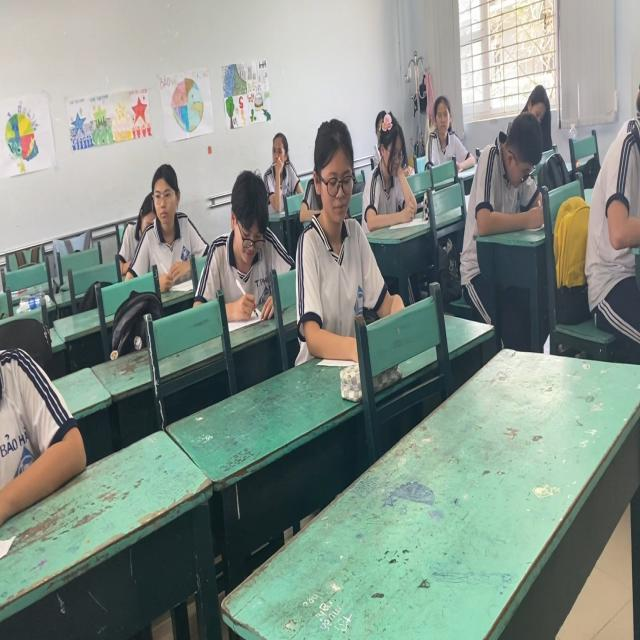not_cheating: (296, 112, 368, 315), (207, 174, 296, 301), (119, 157, 203, 281), (461, 112, 543, 236), (360, 112, 414, 225), (426, 88, 469, 177), (259, 126, 303, 190)
